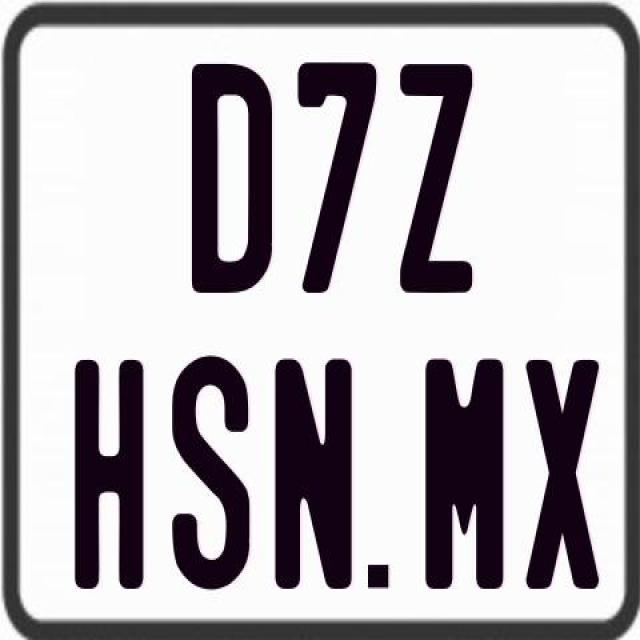7: (294, 61, 382, 293)
D: (188, 63, 271, 300)
H: (74, 360, 146, 597)
M: (422, 358, 499, 589)
N: (274, 358, 356, 590)
S: (170, 352, 250, 592)
X: (522, 357, 596, 587)
Z: (401, 59, 478, 288)
